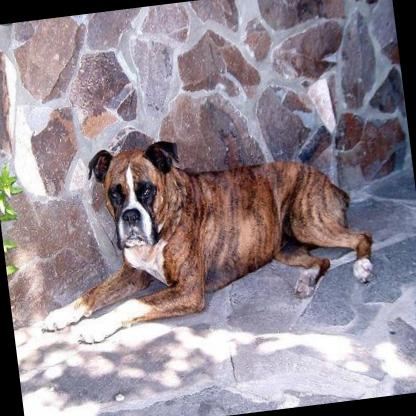boxer: (19, 114, 384, 350)
